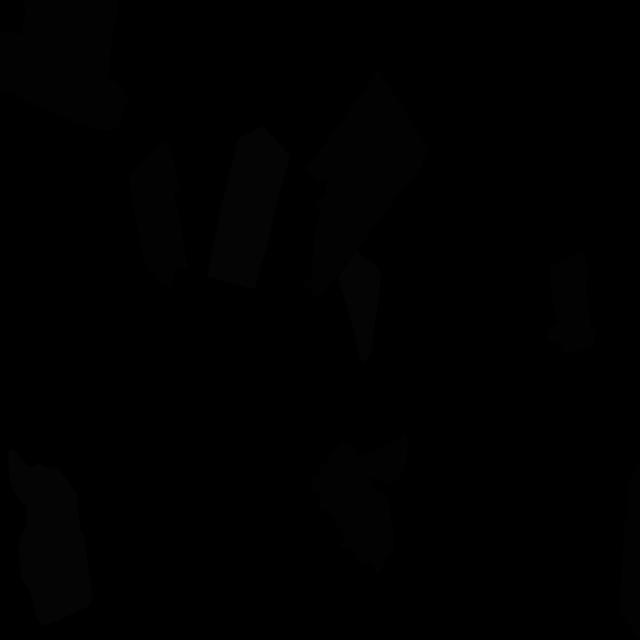cardboard: (301, 68, 428, 299), (0, 0, 128, 131), (312, 434, 408, 574), (128, 140, 190, 289), (546, 252, 596, 353), (620, 460, 640, 640)
soft_plastic: (8, 449, 93, 625), (207, 126, 290, 289), (338, 252, 382, 362)
